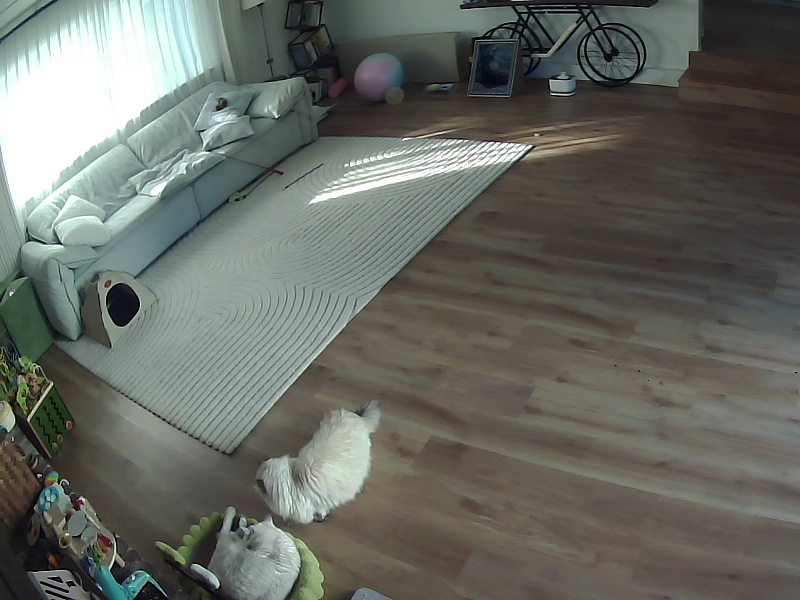Qb-2: (191, 507, 300, 599)
Qbo-2: (256, 400, 380, 523)
